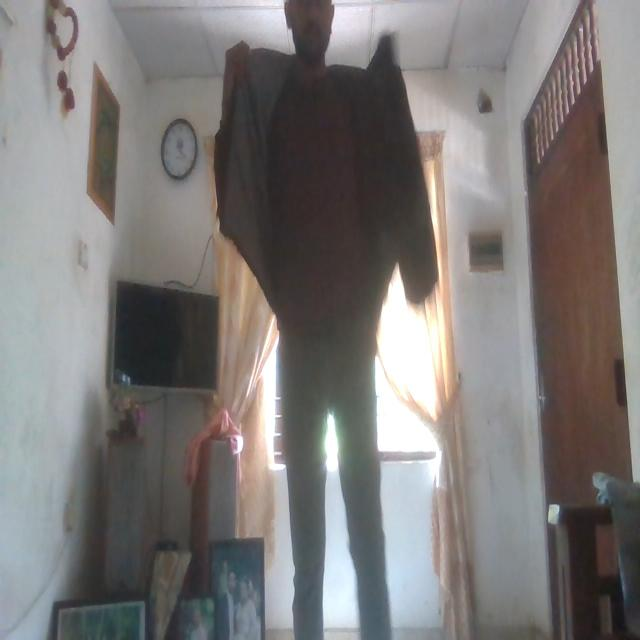Jacket_Wearer: (212, 48, 438, 313)
Person: (234, 0, 395, 640)
